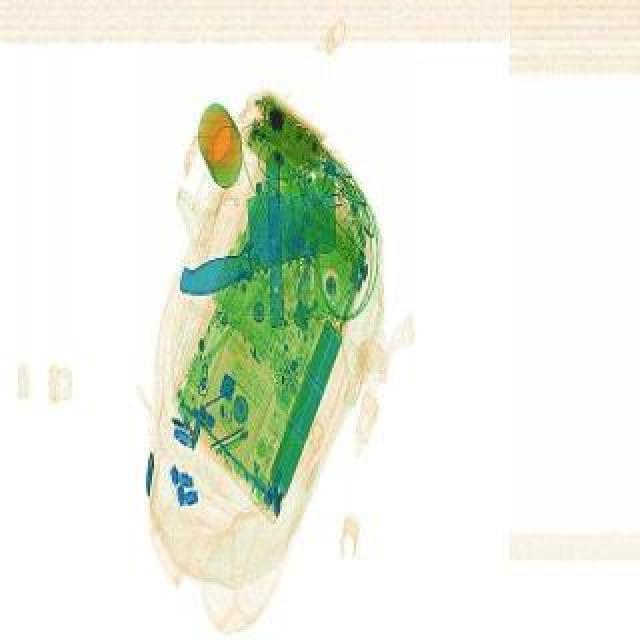knife: (160, 176, 356, 302)
